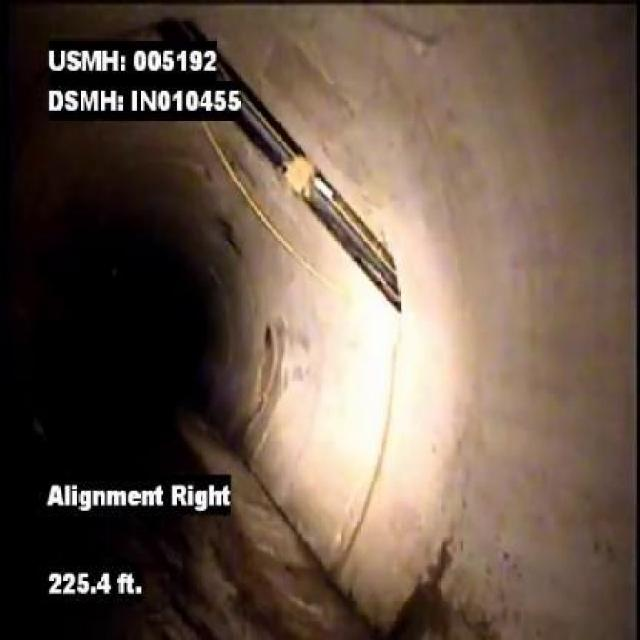Utility intrusion: (164, 16, 404, 316)
